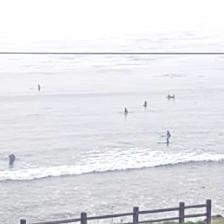surfer: (8, 153, 16, 164), (165, 131, 171, 144), (167, 93, 175, 100), (142, 100, 148, 108), (37, 84, 41, 91), (125, 108, 128, 115)
